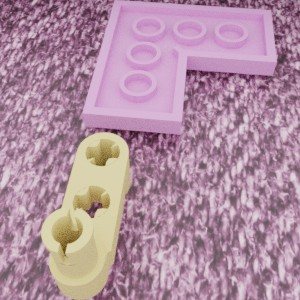lego: (82, 0, 276, 134), (41, 132, 130, 299)
